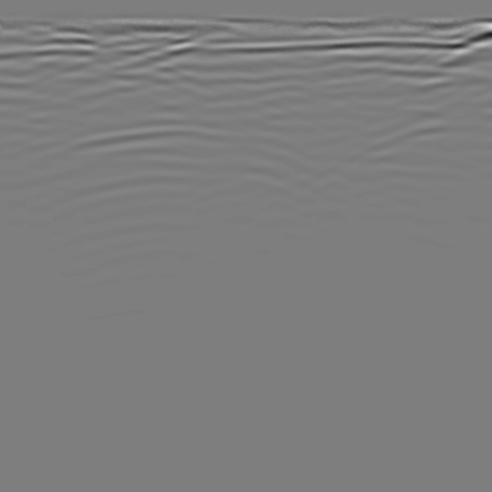hyperbola: (34, 106, 302, 221)
